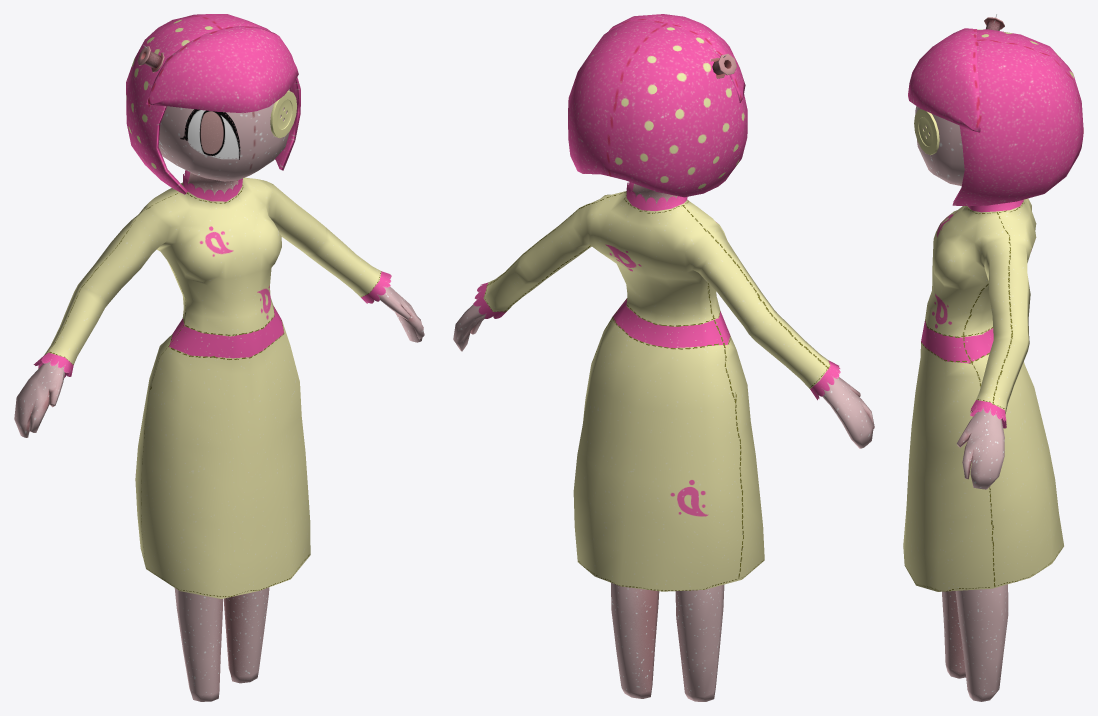
File: crochet.fbx
3 renders of one model, left to right at view 1: azimuth 30°, elevation 25°; view 2: azimuth 150°, elevation 25°; view 3: azimuth 270°, elevation 25°, orthographic. The views are drawn at different scales.
Parts seen in each view (by area): view 1: dress., body., hair., eye., button.; view 2: dress., hair., body.; view 3: dress., hair., body., button..
Part boxes in pixels (x1,y1,x2,y2): dress.: (33,170,391,598); body.: (14,89,424,701); hair.: (126,14,300,194); eye.: (180,109,240,159); button.: (270,90,296,138); dress.: (473,182,840,591); hair.: (568,14,747,197); body.: (453,183,874,701); dress.: (903,198,1063,591); hair.: (908,28,1083,206); body.: (915,106,1008,701); button.: (914,109,939,155).
Bounding box in the file's own units: 165 × 259 × 65.55.
7 materials, 7 textured.
